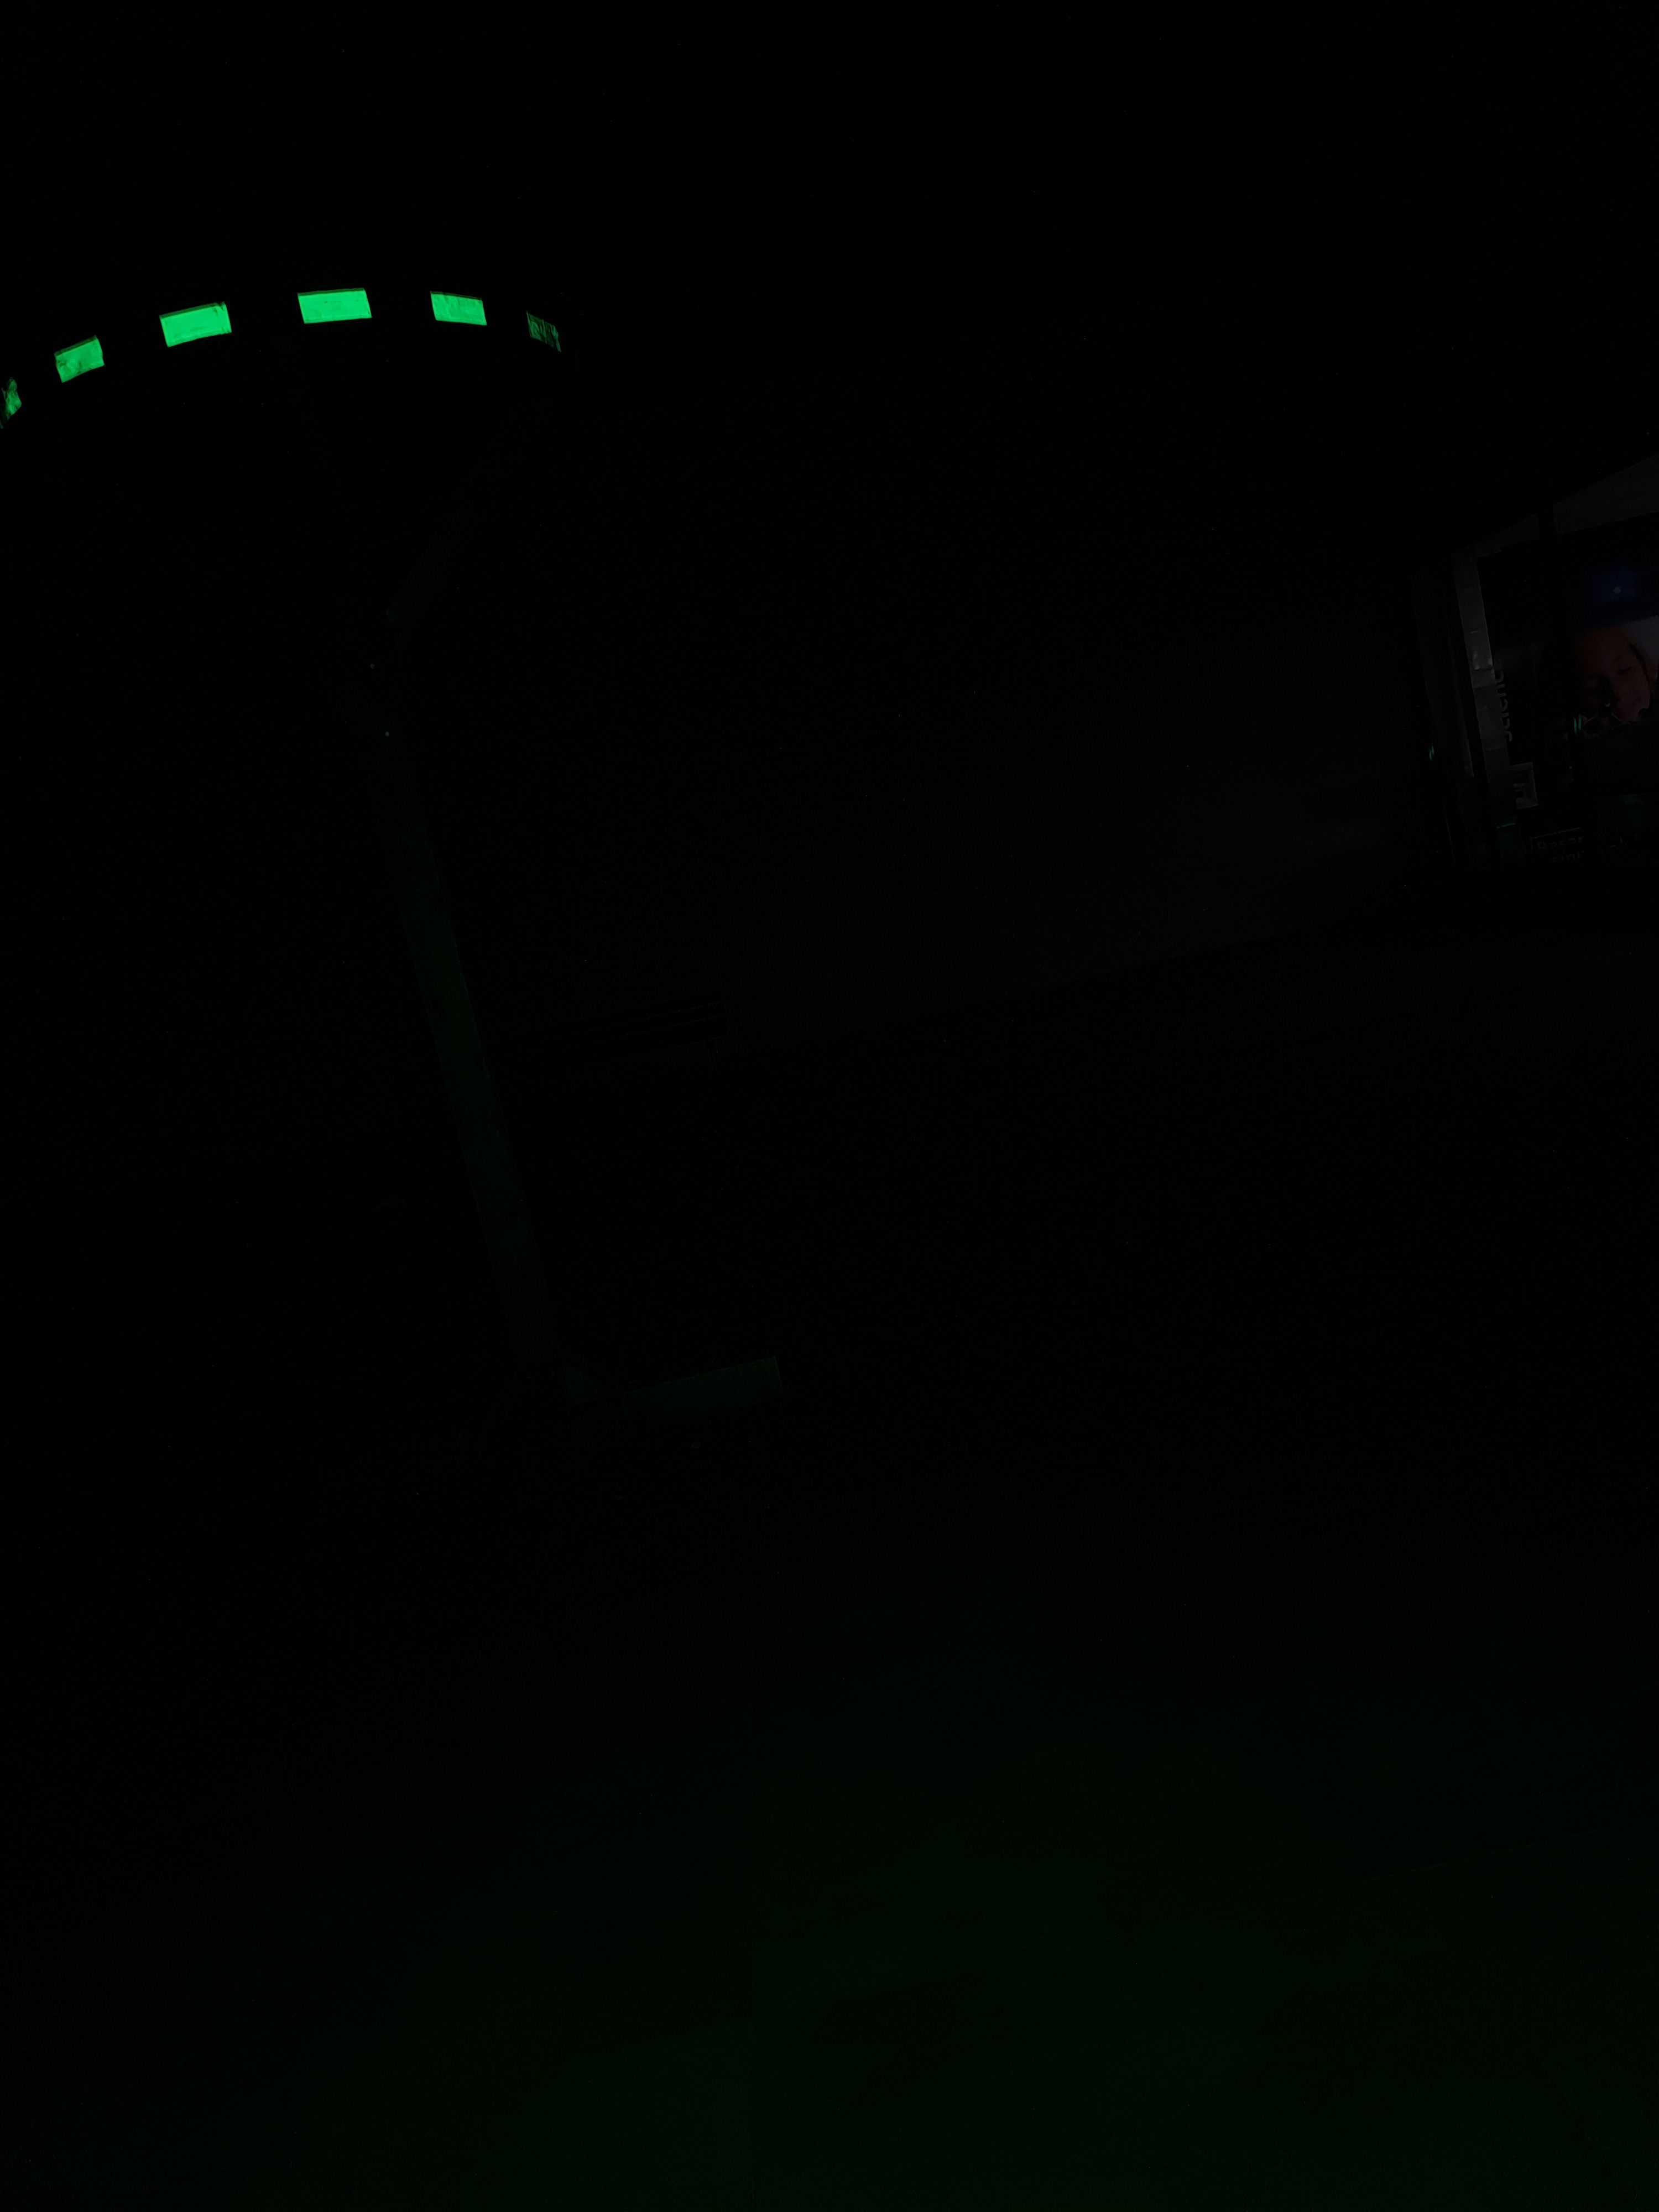hoop: (5, 261, 575, 460)
